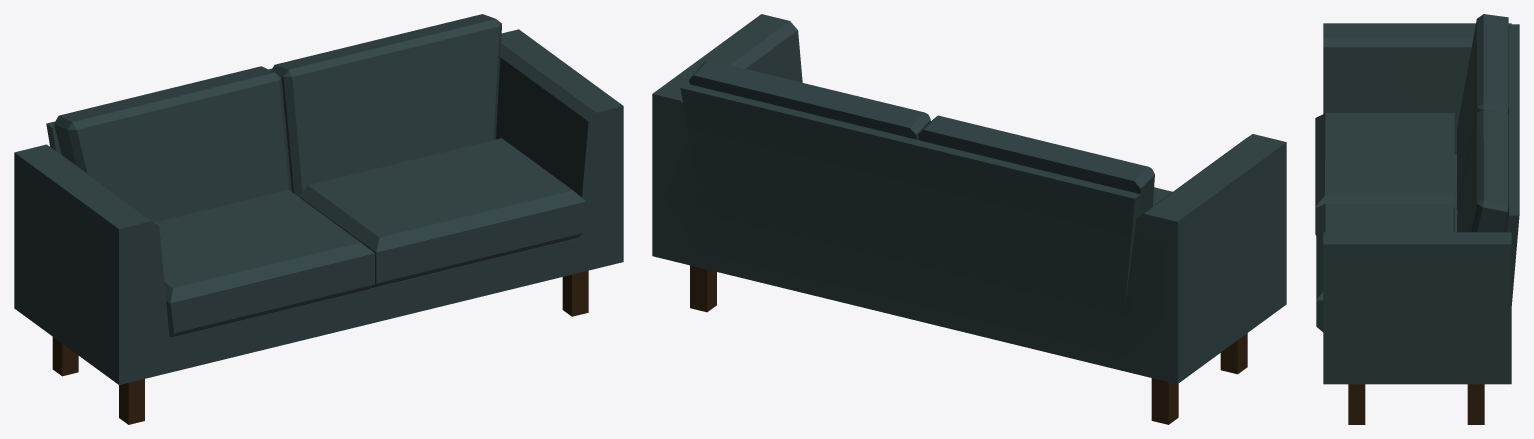
File: Couch_1.fbx
3 renders of one model, left to right at view 1: azimuth 30°, elevation 25°; view 2: azimuth 150°, elevation 25°; view 3: azimuth 270°, elevation 25°, orthographic. The views are drawn at different scales.
Parts seen in each view (by area): view 1: pCube1, pCube3, pCube2, pCube5, pCube4, pCube8, pCube7, pCube6; view 2: pCube1, pCube2, pCube3, pCube6, pCube9, pCube7; view 3: pCube1, pCube4, pCube3, pCube2, pCube5, pCube8, pCube9.
Boxes of the visible parts, bbox=[...] form: pCube1: bbox=[14, 29, 623, 384]; pCube3: bbox=[271, 14, 501, 197]; pCube2: bbox=[54, 66, 291, 222]; pCube5: bbox=[299, 138, 586, 287]; pCube4: bbox=[154, 189, 374, 337]; pCube8: bbox=[562, 270, 588, 316]; pCube7: bbox=[119, 379, 144, 424]; pCube6: bbox=[52, 337, 78, 376]; pCube1: bbox=[652, 14, 1286, 384]; pCube2: bbox=[918, 115, 1154, 215]; pCube3: bbox=[689, 60, 930, 139]; pCube6: bbox=[1151, 378, 1178, 424]; pCube9: bbox=[690, 265, 716, 312]; pCube7: bbox=[1220, 333, 1247, 374]; pCube1: bbox=[1323, 23, 1519, 384]; pCube4: bbox=[1315, 113, 1454, 235]; pCube3: bbox=[1457, 109, 1508, 232]; pCube2: bbox=[1457, 14, 1508, 210]; pCube5: bbox=[1316, 203, 1453, 331]; pCube8: bbox=[1348, 384, 1365, 424]; pCube9: bbox=[1467, 384, 1484, 424].
Bounding box in the file's own units: 0.025 × 0.0115 × 0.00975.
